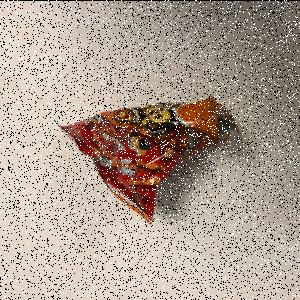Trash: (58, 95, 242, 226)
